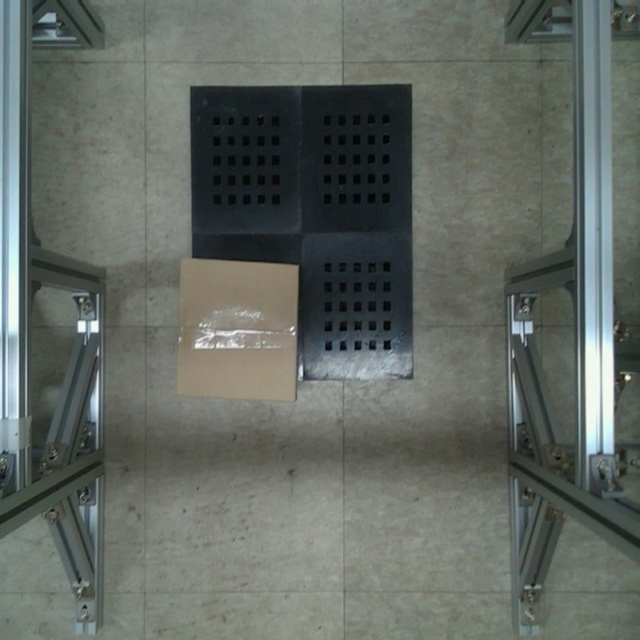box: (177, 255, 299, 404)
pallet: (186, 78, 418, 383)
